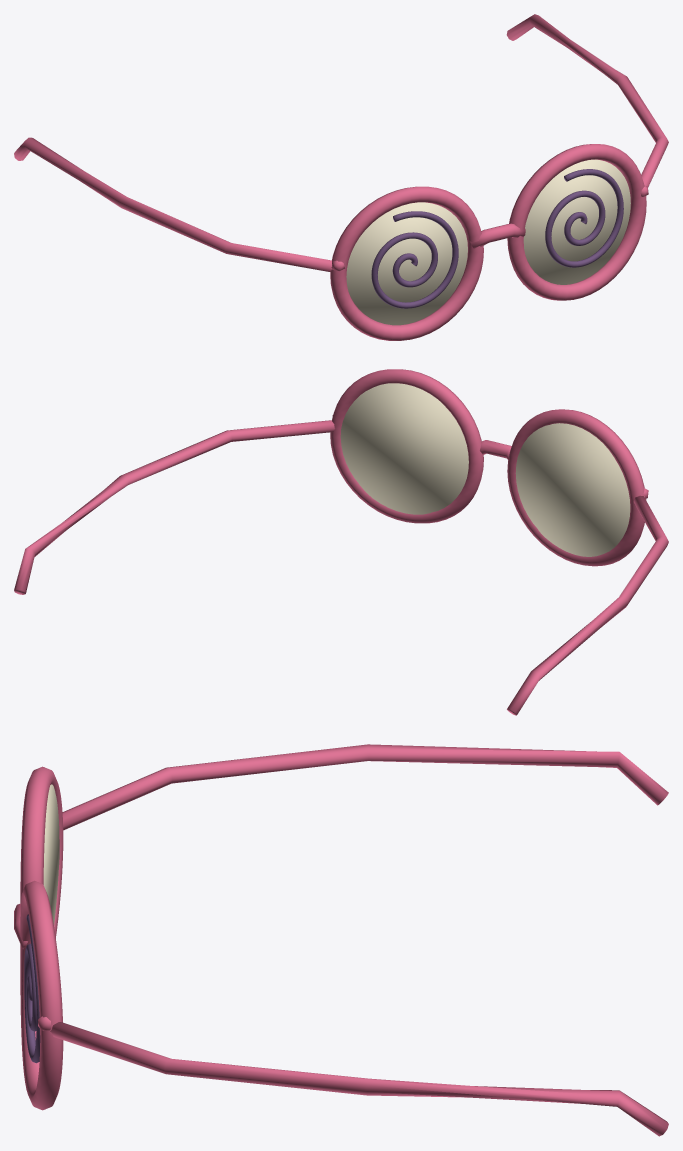
The model's file is 19-hypno-club.glb.
The picture shows the model from 3 angles, top to bottom: view 1: azimuth 30°, elevation 25°; view 2: azimuth 150°, elevation 25°; view 3: azimuth 270°, elevation 25°; orthographic projection. The views are drawn at different scales.
Visible parts, largest first — view 1: Glasses19_Lens-12, Glasses19_Lens14, Glasses19_Rim-11, Glasses19_Rim13, Glasses19_Temple-16, Glasses19_Temple18, Glasses19_HypnoSpiral10, Glasses19_HypnoSpiral11, Glasses19_Bridge5; view 2: Glasses19_Lens14, Glasses19_Lens-12, Glasses19_Rim13, Glasses19_Rim-11, Glasses19_Temple18, Glasses19_Temple-16; view 3: Glasses19_Temple-16, Glasses19_Temple18, Glasses19_Rim13, Glasses19_Rim-11, Glasses19_Lens-12, Glasses19_HypnoSpiral11.
Part boxes in pixels (bbox=[...]): Glasses19_Lens-12: bbox=[346, 202, 467, 325]; Glasses19_Lens14: bbox=[523, 159, 630, 284]; Glasses19_Rim-11: bbox=[330, 186, 483, 340]; Glasses19_Rim13: bbox=[507, 144, 646, 300]; Glasses19_Temple-16: bbox=[14, 137, 332, 272]; Glasses19_Temple18: bbox=[506, 14, 668, 187]; Glasses19_HypnoSpiral10: bbox=[371, 211, 458, 308]; Glasses19_HypnoSpiral11: bbox=[545, 169, 623, 267]; Glasses19_Bridge5: bbox=[469, 223, 525, 248]; Glasses19_Lens14: bbox=[340, 383, 468, 514]; Glasses19_Lens-12: bbox=[515, 423, 630, 556]; Glasses19_Rim13: bbox=[330, 369, 483, 523]; Glasses19_Rim-11: bbox=[507, 409, 646, 566]; Glasses19_Temple18: bbox=[14, 420, 334, 594]; Glasses19_Temple-16: bbox=[507, 495, 668, 715]; Glasses19_Temple-16: bbox=[62, 744, 668, 830]; Glasses19_Temple18: bbox=[50, 1022, 668, 1136]; Glasses19_Rim13: bbox=[20, 880, 63, 1110]; Glasses19_Rim-11: bbox=[20, 766, 63, 937]; Glasses19_Lens-12: bbox=[43, 784, 59, 924]; Glasses19_HypnoSpiral11: bbox=[24, 914, 40, 1063].
Bounding box in the file's own units: 0.6374 × 0.179 × 0.5101.
